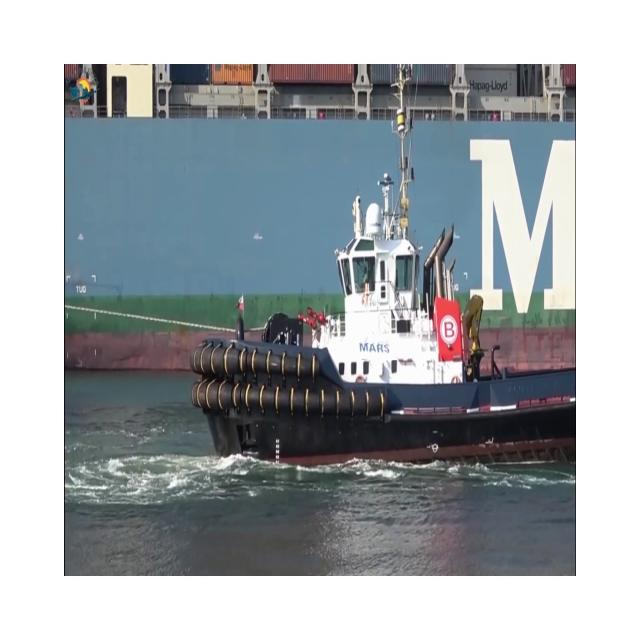OCR: (356, 335, 398, 360)
